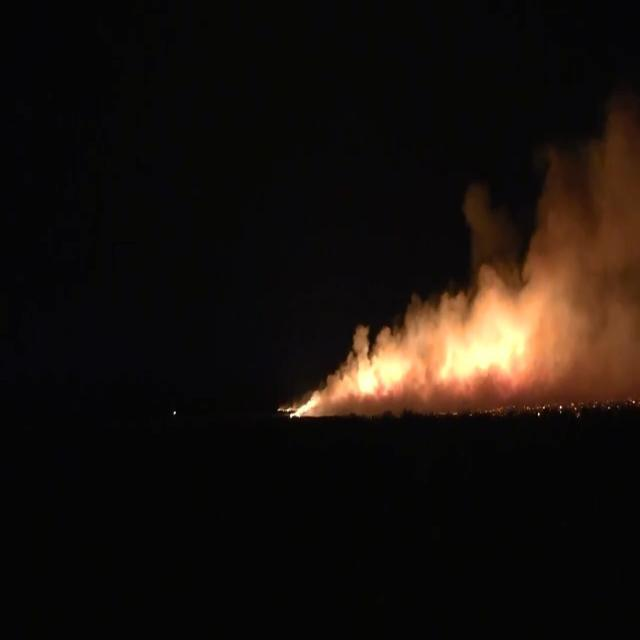Fire: (284, 306, 550, 416)
